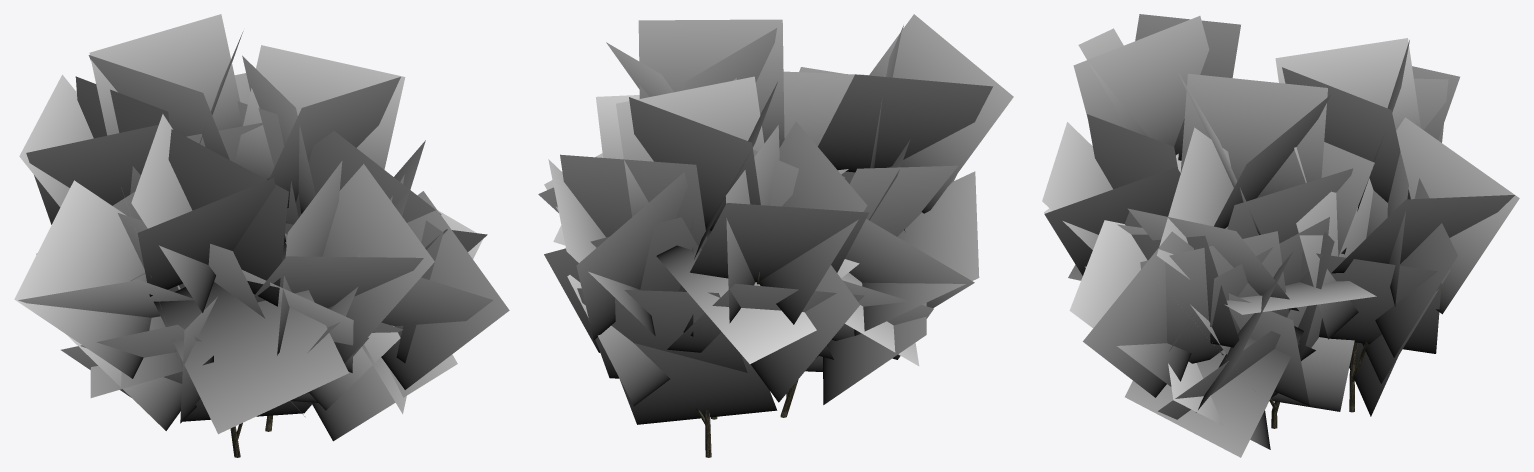
Rendered from tree7.fbx.
3 views of the same model, side by side, from view 1: azimuth 30°, elevation 25°; view 2: azimuth 150°, elevation 25°; view 3: azimuth 270°, elevation 25° (orthographic). The views are drawn at different scales.
Visible parts, largest first — view 1: tree7_leafs, tree7_leafs_flip; view 2: tree7_leafs, tree7_leafs_flip, tree7_trunk; view 3: tree7_leafs, tree7_leafs_flip, tree7_trunk.
Boxes of the visible parts, x1,y1,x2,y2 form: tree7_leafs: [14, 14, 509, 441]; tree7_leafs_flip: [19, 15, 494, 437]; tree7_leafs: [538, 14, 1013, 424]; tree7_leafs_flip: [545, 15, 1009, 423]; tree7_trunk: [695, 227, 857, 457]; tree7_leafs: [1042, 14, 1519, 457]; tree7_leafs_flip: [1043, 14, 1514, 450]; tree7_trunk: [1220, 341, 1368, 428].
Bounding box in the file's own units: 10.61 × 8.15 × 10.1.
